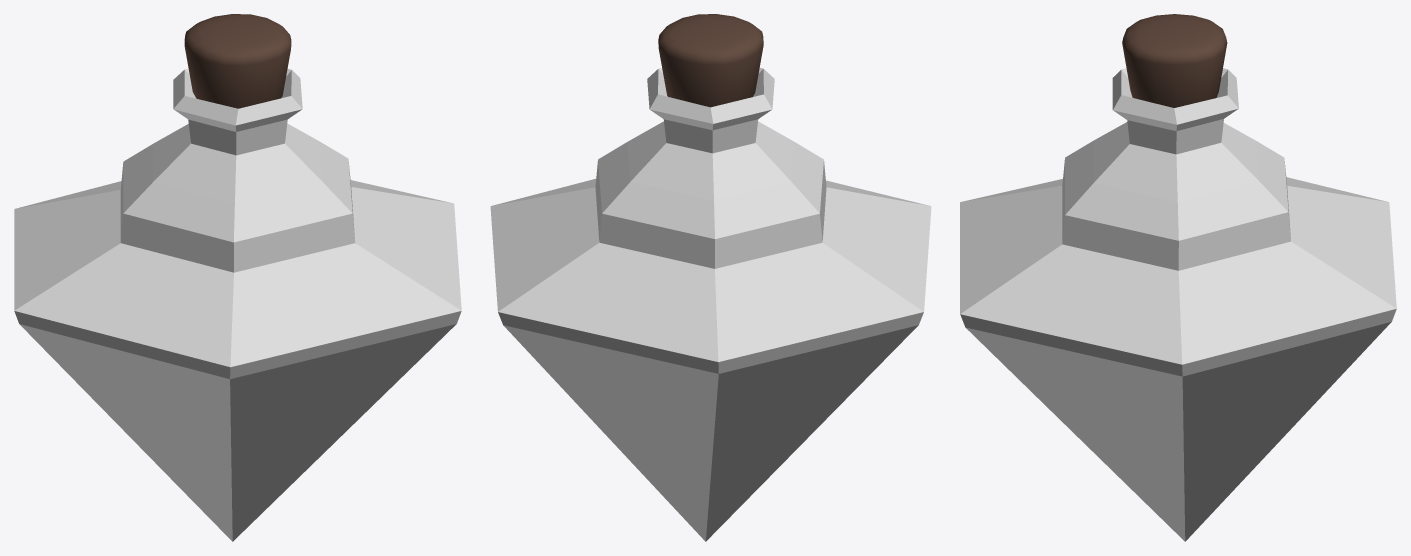
File: potion11_filled.glb
3 views of the same model, side by side, from view 1: azimuth 30°, elevation 25°; view 2: azimuth 150°, elevation 25°; view 3: azimuth 270°, elevation 25° (orthographic).
Visible parts, largest first — view 1: Potion11_Filled; view 2: Potion11_Filled; view 3: Potion11_Filled.
Part boxes in pixels (box(x1,y1,x2,y2)): Potion11_Filled: box(14, 14, 461, 541); Potion11_Filled: box(490, 14, 931, 541); Potion11_Filled: box(960, 14, 1396, 541).
Bounding box in the file's own units: 0.8358 × 0.9373 × 0.7238.
